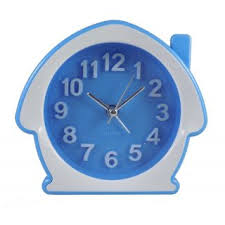alarm_clock: (14, 13, 208, 194), (18, 13, 208, 194)
